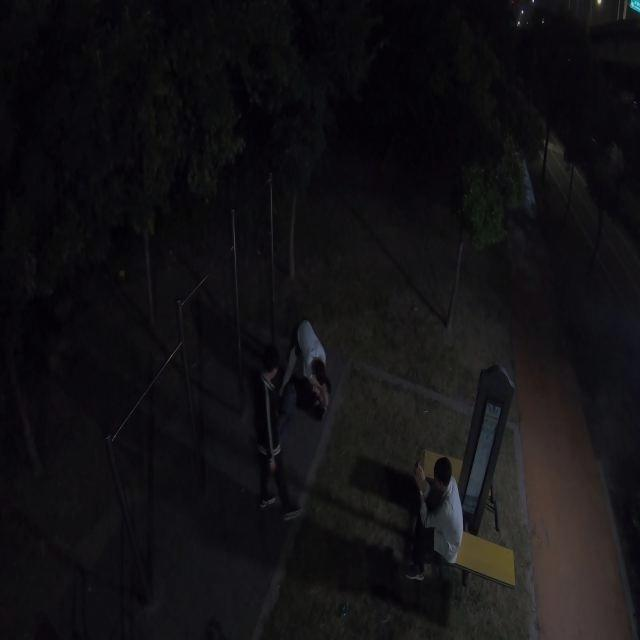fight: (249, 316, 333, 523)
non-fight: (399, 452, 467, 584)
